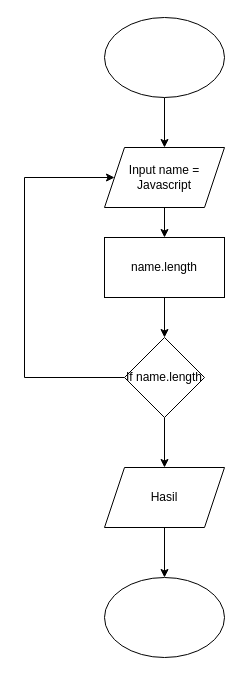
The diagram is 242 pixels wide and 675 high, and some of its shapes have lost their labels. Here are the shapes that lost their labels. From the top down, the centre of each, then its label:
At (x=164, y=57): "Start".
At (x=164, y=617): "End".
